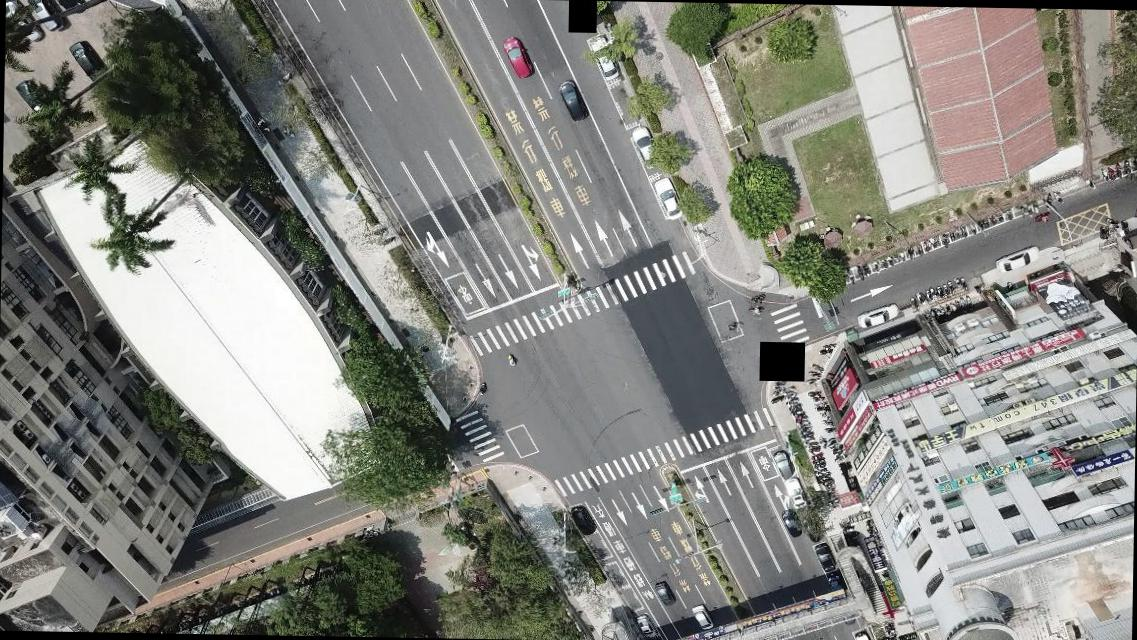vehicle: (4, 0, 43, 45), (69, 38, 103, 83), (501, 34, 534, 80), (24, 0, 67, 35), (15, 79, 52, 116), (589, 38, 618, 84), (655, 177, 684, 220), (559, 79, 587, 122), (630, 126, 657, 168), (998, 246, 1038, 274), (859, 305, 901, 331), (571, 502, 596, 536), (800, 514, 824, 544), (813, 546, 836, 574), (784, 479, 804, 508), (636, 610, 656, 638), (774, 450, 792, 480), (692, 606, 714, 630), (784, 510, 801, 538), (658, 580, 675, 604), (50, 0, 79, 10), (851, 628, 871, 639)
